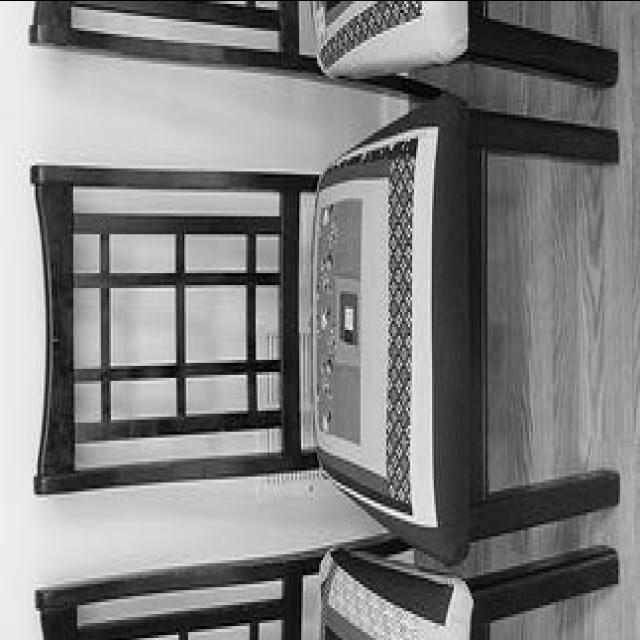chair: (29, 97, 618, 546)
